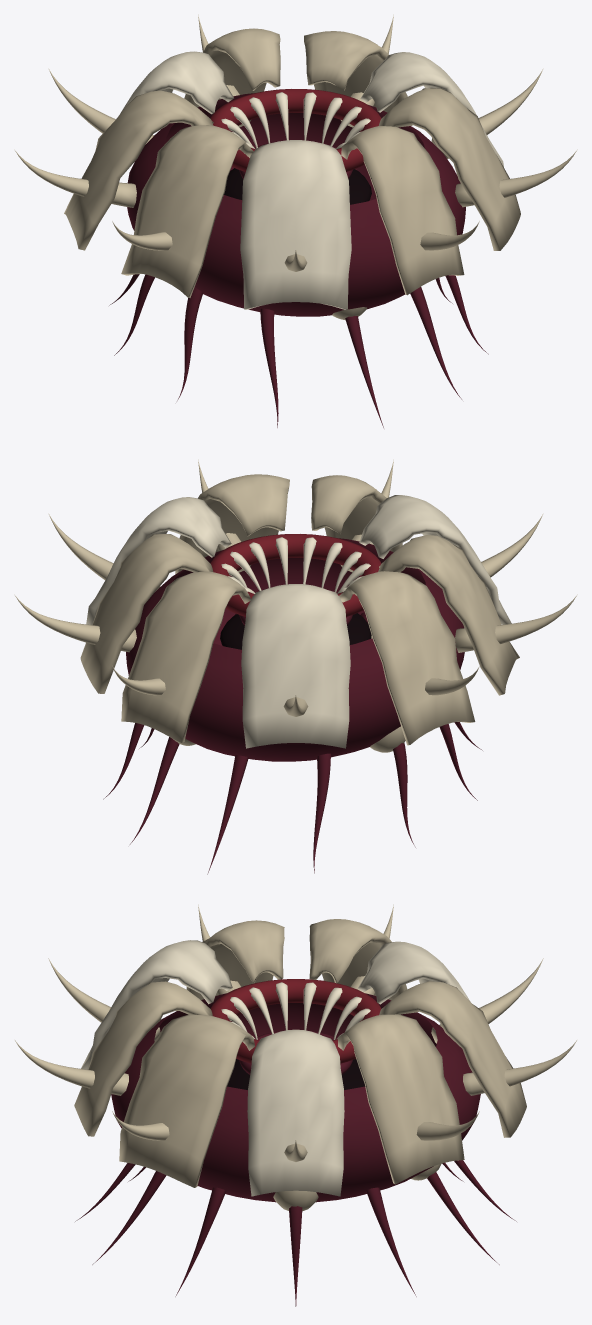
File: brood-heavy-v1.glb
3 renders of one model, top to bottom at view 1: azimuth 30°, elevation 25°; view 2: azimuth 150°, elevation 25°; view 3: azimuth 270°, elevation 25°, orthographic.
Parts seen in each view (by area): view 1: calcified_iris_plate.003, living_mass, calcified_iris_plate.004, calcified_iris_plate.002, calcified_iris_plate.001, calcified_iris_plate.005, calcified_iris_plate.008, calcified_iris_plate.007, wet_gums, calcified_iris_plate.006, calcified_iris_plate, peripheral_tusk.005 (+10 smaller); view 2: calcified_iris_plate.006, living_mass, calcified_iris_plate.005, calcified_iris_plate.007, calcified_iris_plate.008, calcified_iris_plate.004, calcified_iris_plate.001, calcified_iris_plate.003, calcified_iris_plate, wet_gums, calcified_iris_plate.002, peripheral_tusk.004 (+10 smaller); view 3: living_mass, calcified_iris_plate, calcified_iris_plate.001, calcified_iris_plate.008, calcified_iris_plate.007, calcified_iris_plate.002, calcified_iris_plate.003, calcified_iris_plate.005, calcified_iris_plate.004, wet_gums, calcified_iris_plate.006, peripheral_tusk.002 (+12 smaller).
Part boxes in pixels (x1,y1,x2,y2): calcified_iris_plate.003: (240, 140, 351, 309); living_mass: (127, 93, 465, 316); calcified_iris_plate.004: (121, 125, 253, 297); calcified_iris_plate.002: (341, 126, 464, 295); calcified_iris_plate.001: (379, 88, 520, 250); calcified_iris_plate.005: (64, 90, 213, 250); calcified_iris_plate.008: (304, 31, 407, 112); calcified_iris_plate.007: (184, 28, 280, 107); wet_gums: (210, 89, 381, 171); calcified_iris_plate.006: (120, 51, 233, 114); calcified_iris_plate: (360, 52, 503, 167); peripheral_tusk.005: (14, 149, 136, 207); calcified_iris_plate.006: (241, 584, 350, 748); living_mass: (126, 538, 464, 761); calcified_iris_plate.005: (339, 571, 475, 745); calcified_iris_plate.007: (121, 571, 251, 742); calcified_iris_plate.008: (80, 534, 213, 693); calcified_iris_plate.004: (378, 535, 519, 695); calcified_iris_plate.001: (175, 474, 289, 574); calcified_iris_plate.003: (359, 495, 511, 624); calcified_iris_plate: (86, 497, 231, 624); wet_gums: (210, 534, 381, 616); calcified_iris_plate.002: (311, 475, 402, 552); peripheral_tusk.004: (455, 594, 577, 652); living_mass: (111, 993, 480, 1202); calcified_iris_plate: (247, 1029, 344, 1196); calcified_iris_plate.001: (119, 1014, 254, 1187); calcified_iris_plate.008: (337, 1014, 464, 1184); calcified_iris_plate.007: (379, 981, 526, 1137); calcified_iris_plate.002: (74, 981, 212, 1136); calcified_iris_plate.003: (80, 940, 232, 1069); calcified_iris_plate.005: (309, 919, 407, 1000); calcified_iris_plate.004: (186, 920, 284, 1000); wet_gums: (210, 979, 381, 1063); calcified_iris_plate.006: (358, 941, 470, 1004); peripheral_tusk.002: (15, 1040, 128, 1095).
Bounding box in the file's own units: 2.52 × 1.29 × 2.56.
